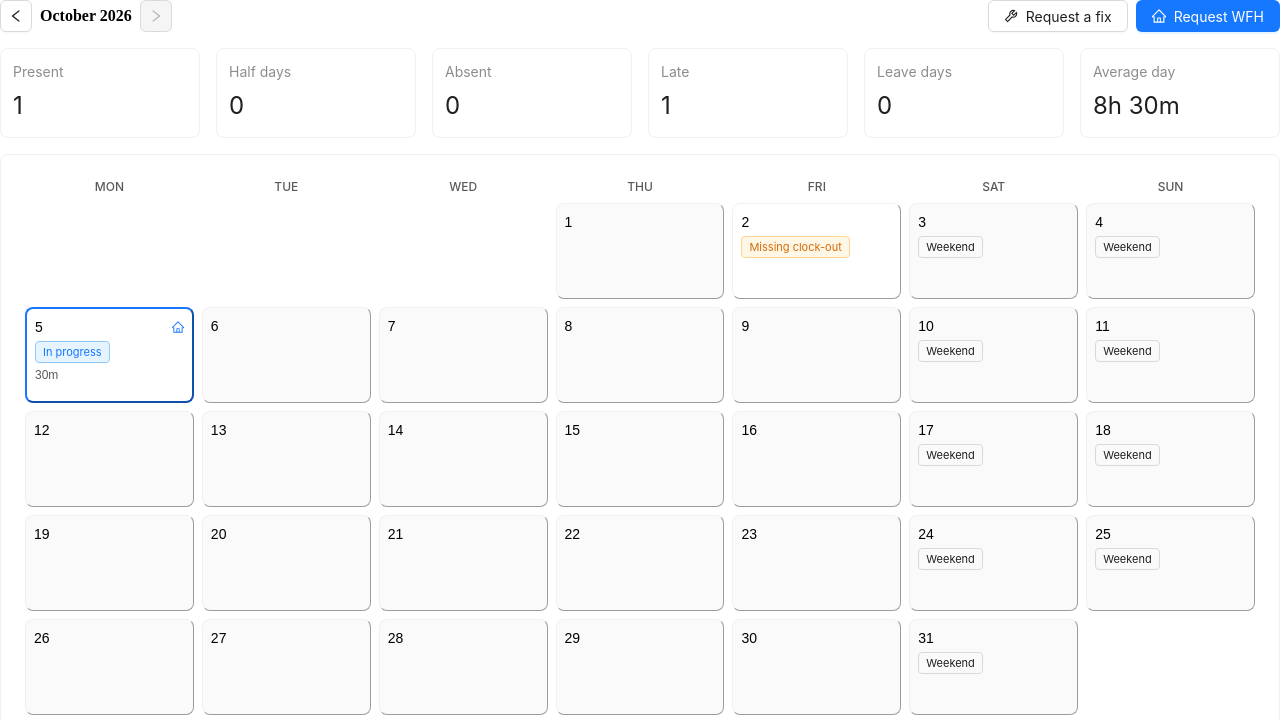
it: Me → Attendance › shows days before I joined as such, with nothing to fix
This screenshot has width=1280, height=720.
Click the button named "1 October: Not joined yet" at (640, 251), box [556, 203, 724, 299]
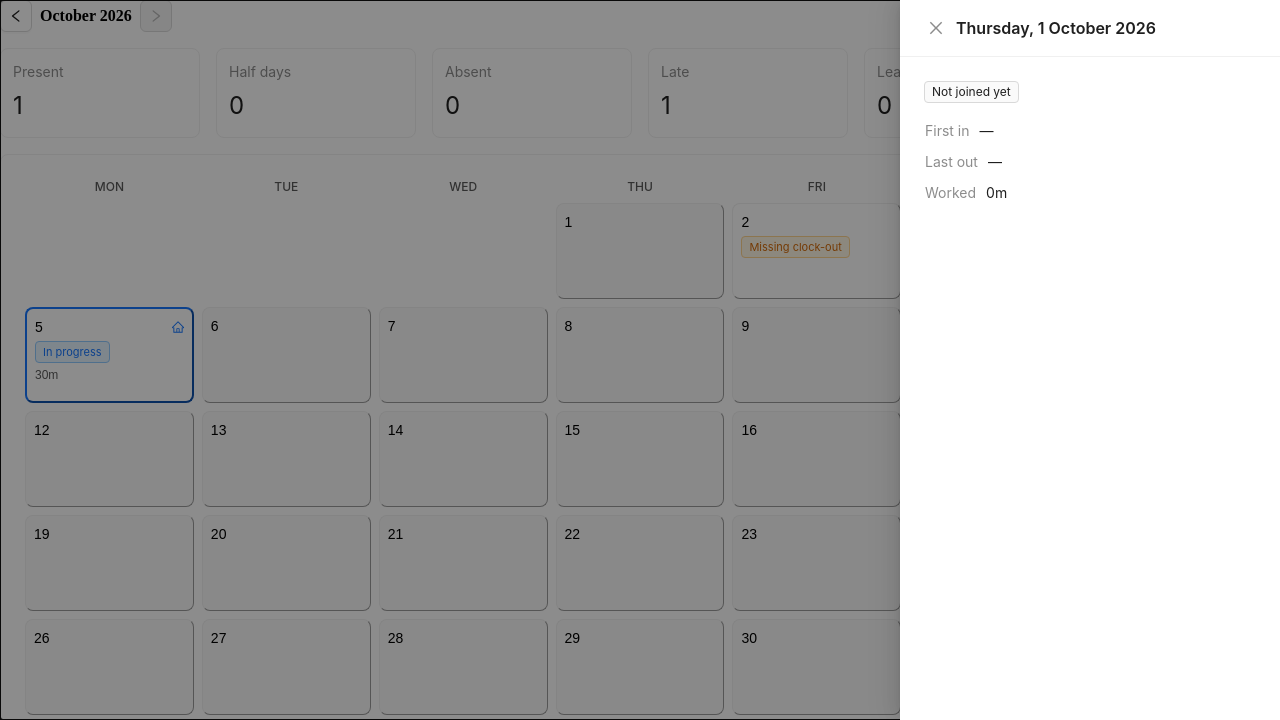
Expected: the dialog is shown, [900, 0, 1279, 719]
